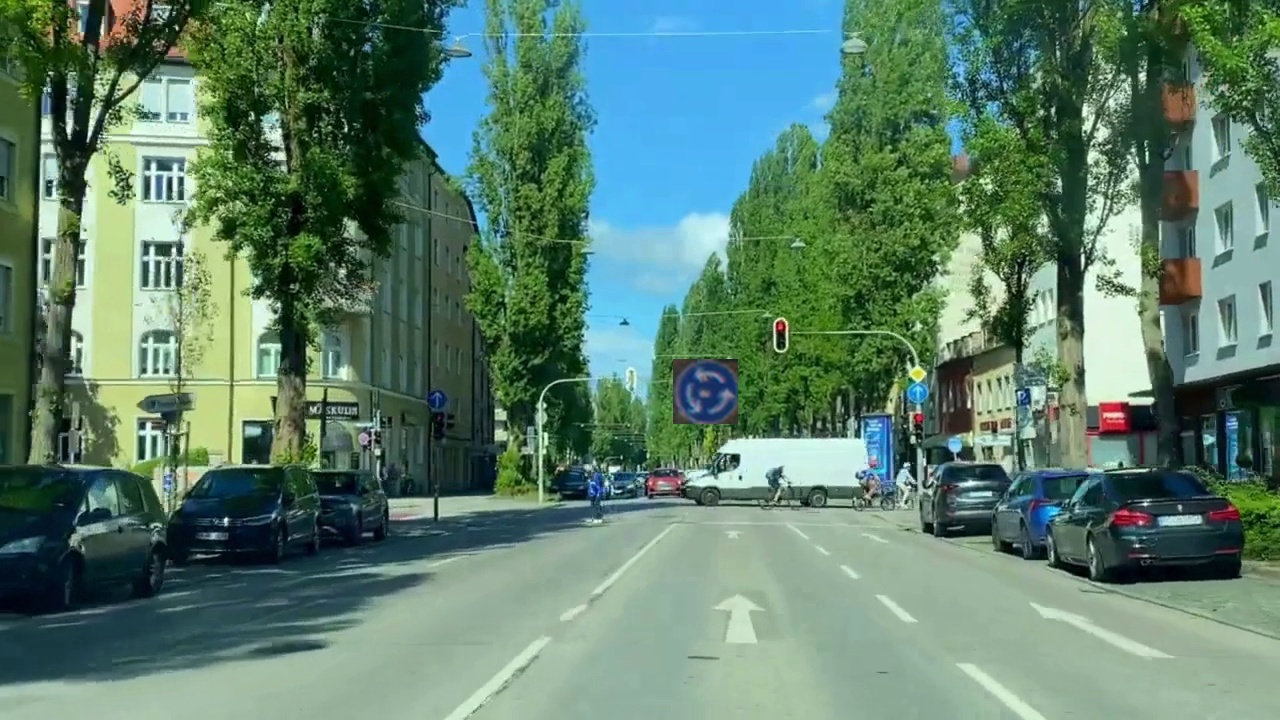Roundabout: (673, 359, 738, 424)
